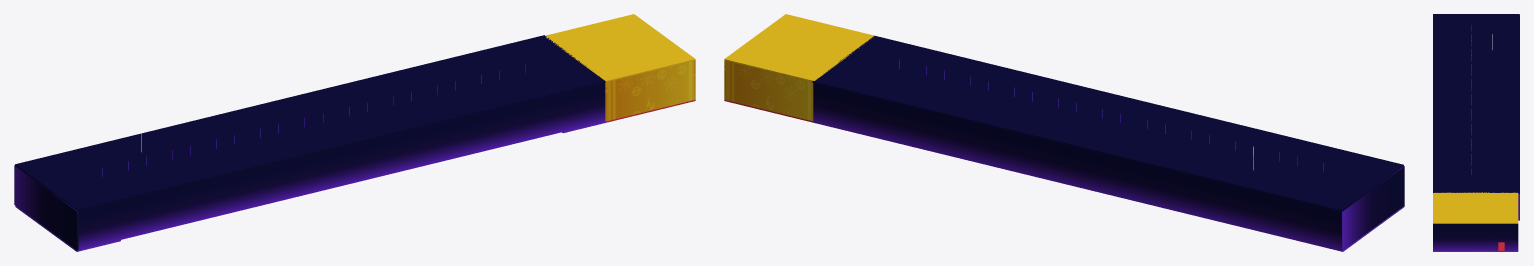
File: Stage4.gltf
The picture shows the model from 3 angles, left to right: view 1: azimuth 30°, elevation 25°; view 2: azimuth 150°, elevation 25°; view 3: azimuth 270°, elevation 25°; orthographic projection. The views are drawn at different scales.
Visible parts, largest first — view 1: StudioCeiling.003, Cube.274, WelcomeCeiling.003, Cube.306, Cube.272; view 2: StudioCeiling.003, Cube.309, WelcomeCeiling.003, Cube.310, Cube.272; view 3: StudioCeiling.003, WelcomeCeiling.003, Cube.259, Cube.309, Cube.287.
Part boxes in pixels (x1,y1,x2,y2): StudioCeiling.003: (15, 35, 605, 210); Cube.274: (78, 82, 605, 249); WelcomeCeiling.003: (545, 14, 695, 81); Cube.306: (607, 61, 693, 120); Cube.272: (15, 166, 78, 250); StudioCeiling.003: (812, 35, 1403, 211); Cube.309: (813, 83, 1342, 251); WelcomeCeiling.003: (724, 14, 873, 81); Cube.310: (726, 61, 812, 120); Cube.272: (1343, 166, 1404, 250); StudioCeiling.003: (1433, 14, 1519, 193); WelcomeCeiling.003: (1433, 192, 1518, 223); Cube.259: (1433, 224, 1518, 250); Cube.309: (1518, 15, 1519, 220); Cube.287: (1490, 242, 1518, 251).
Bounding box in the file's own units: 195 × 19.69 × 34.23.
